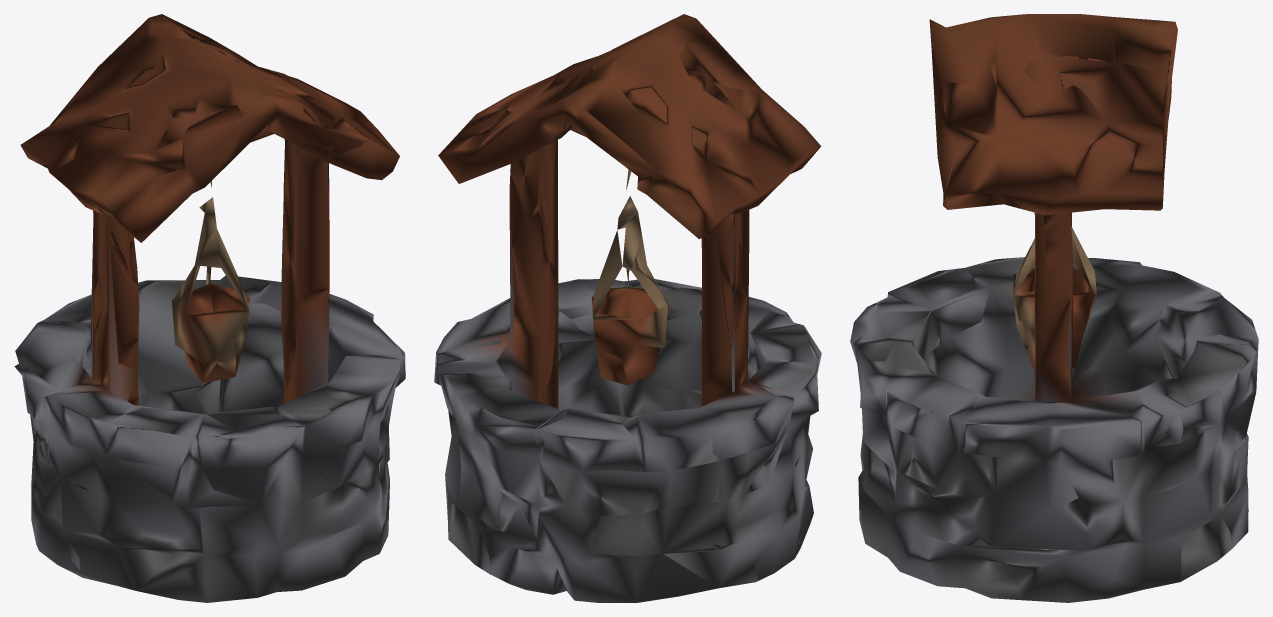
The model's file is gen3d-wishing-well-lod0.glb.
The picture shows the model from 3 angles, left to right: view 1: azimuth 30°, elevation 25°; view 2: azimuth 150°, elevation 25°; view 3: azimuth 270°, elevation 25°; orthographic projection. The views are drawn at different scales.
Parts seen in each view (by area): view 1: part_0; view 2: part_0; view 3: part_0.
Part boxes in pixels (x1=…): part_0: x1=14, y1=14, x2=405, y2=602; part_0: x1=434, y1=14, x2=821, y2=602; part_0: x1=850, y1=14, x2=1258, y2=602.
Bounding box in the file's own units: 0.7312 × 0.9991 × 0.7278.
